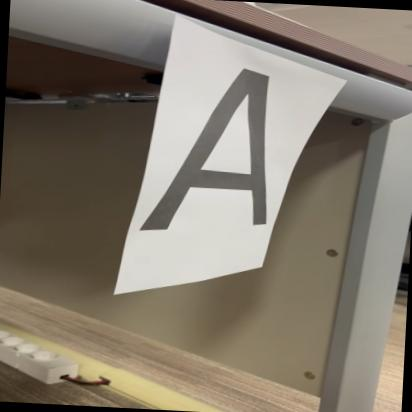seat: (120, 46, 318, 251)
